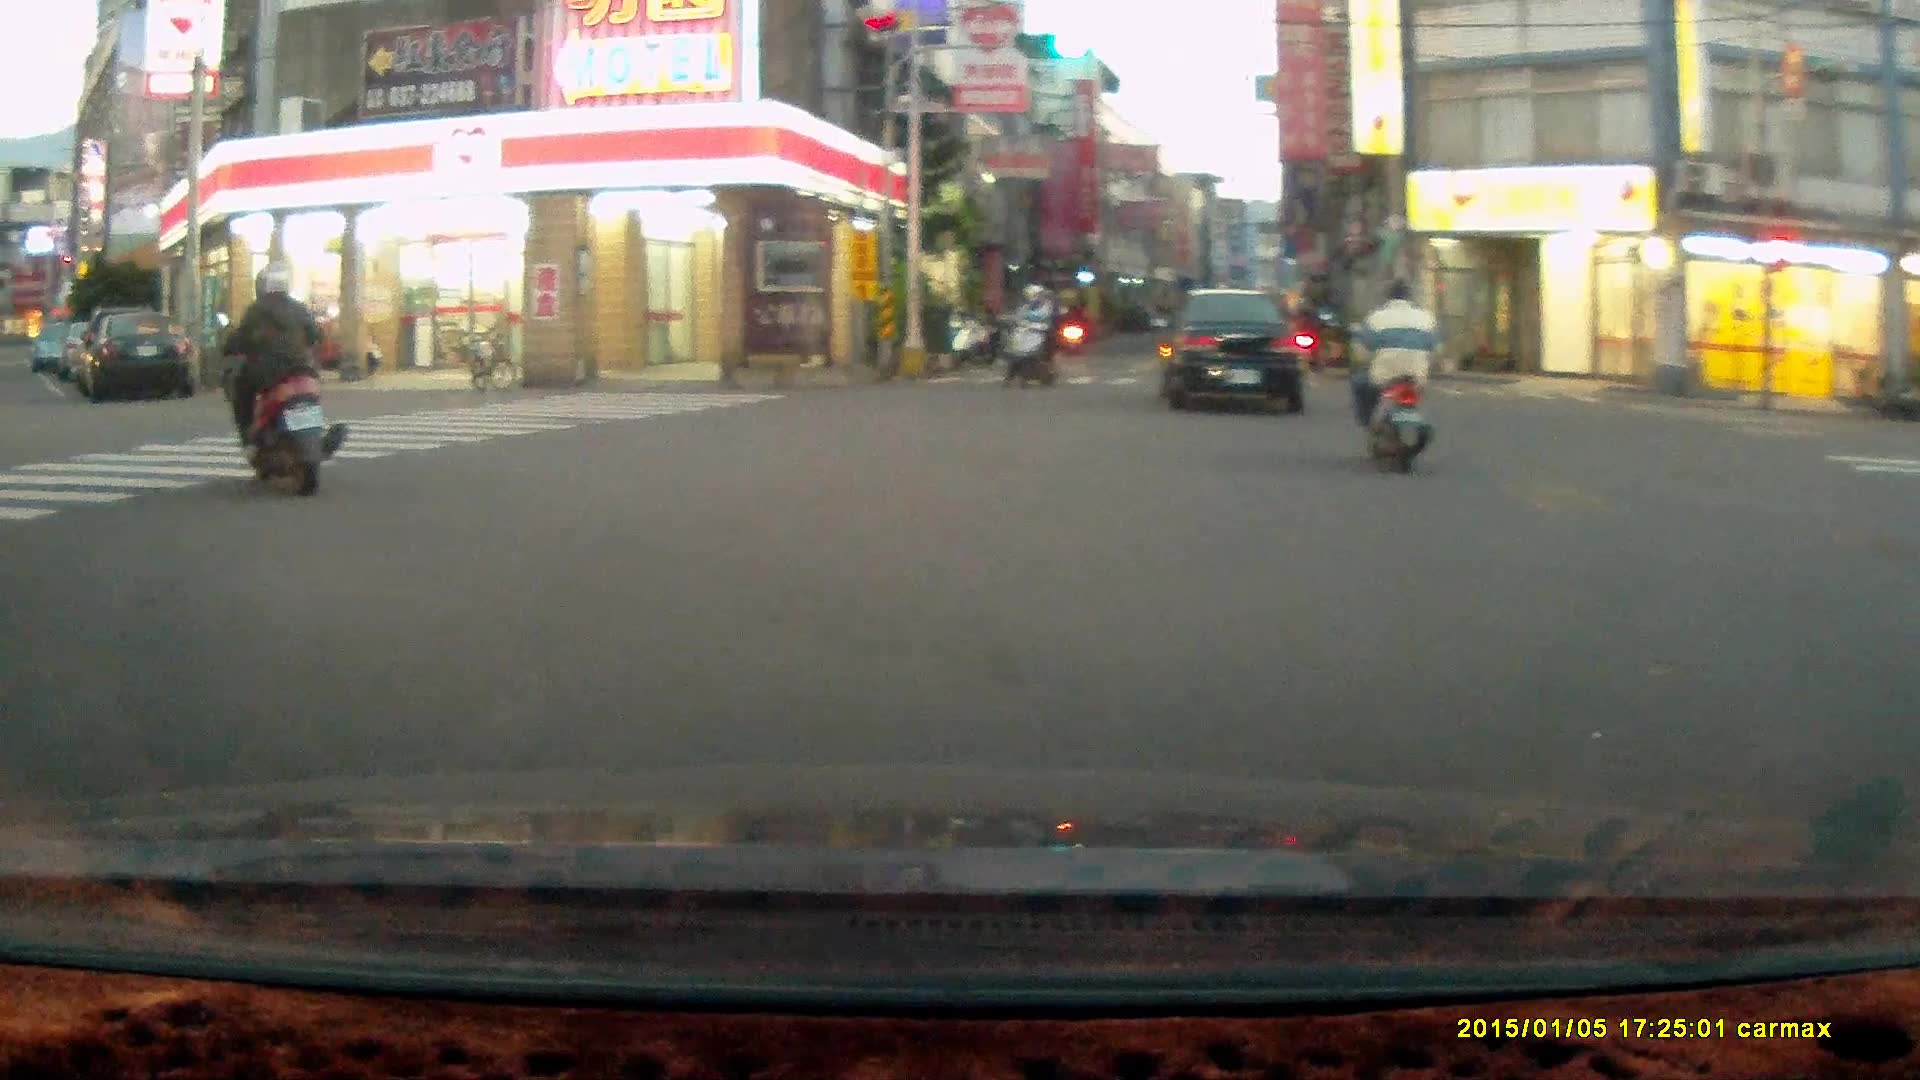rider: (213, 265, 346, 497), (1350, 276, 1441, 475), (1003, 281, 1063, 389)
vehicle: (1159, 283, 1309, 418), (88, 308, 206, 399)
